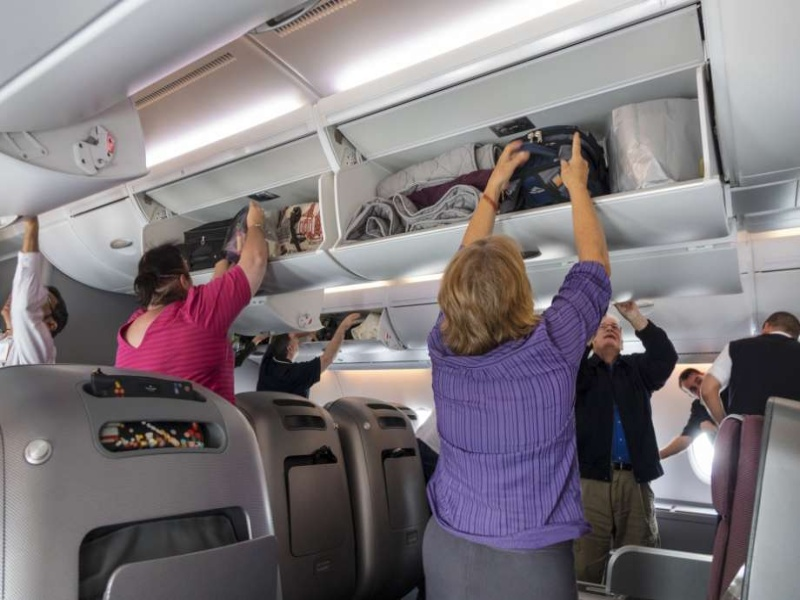close_bin: (41, 184, 147, 296)
open_bin: (331, 73, 716, 287), (148, 118, 329, 280)
